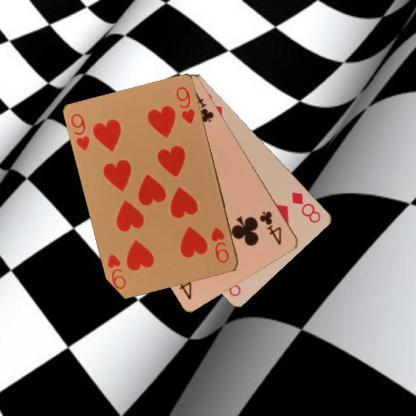4c: (256, 208, 284, 247)
8d: (288, 189, 322, 225)
9h: (68, 110, 91, 152), (208, 224, 230, 265)
